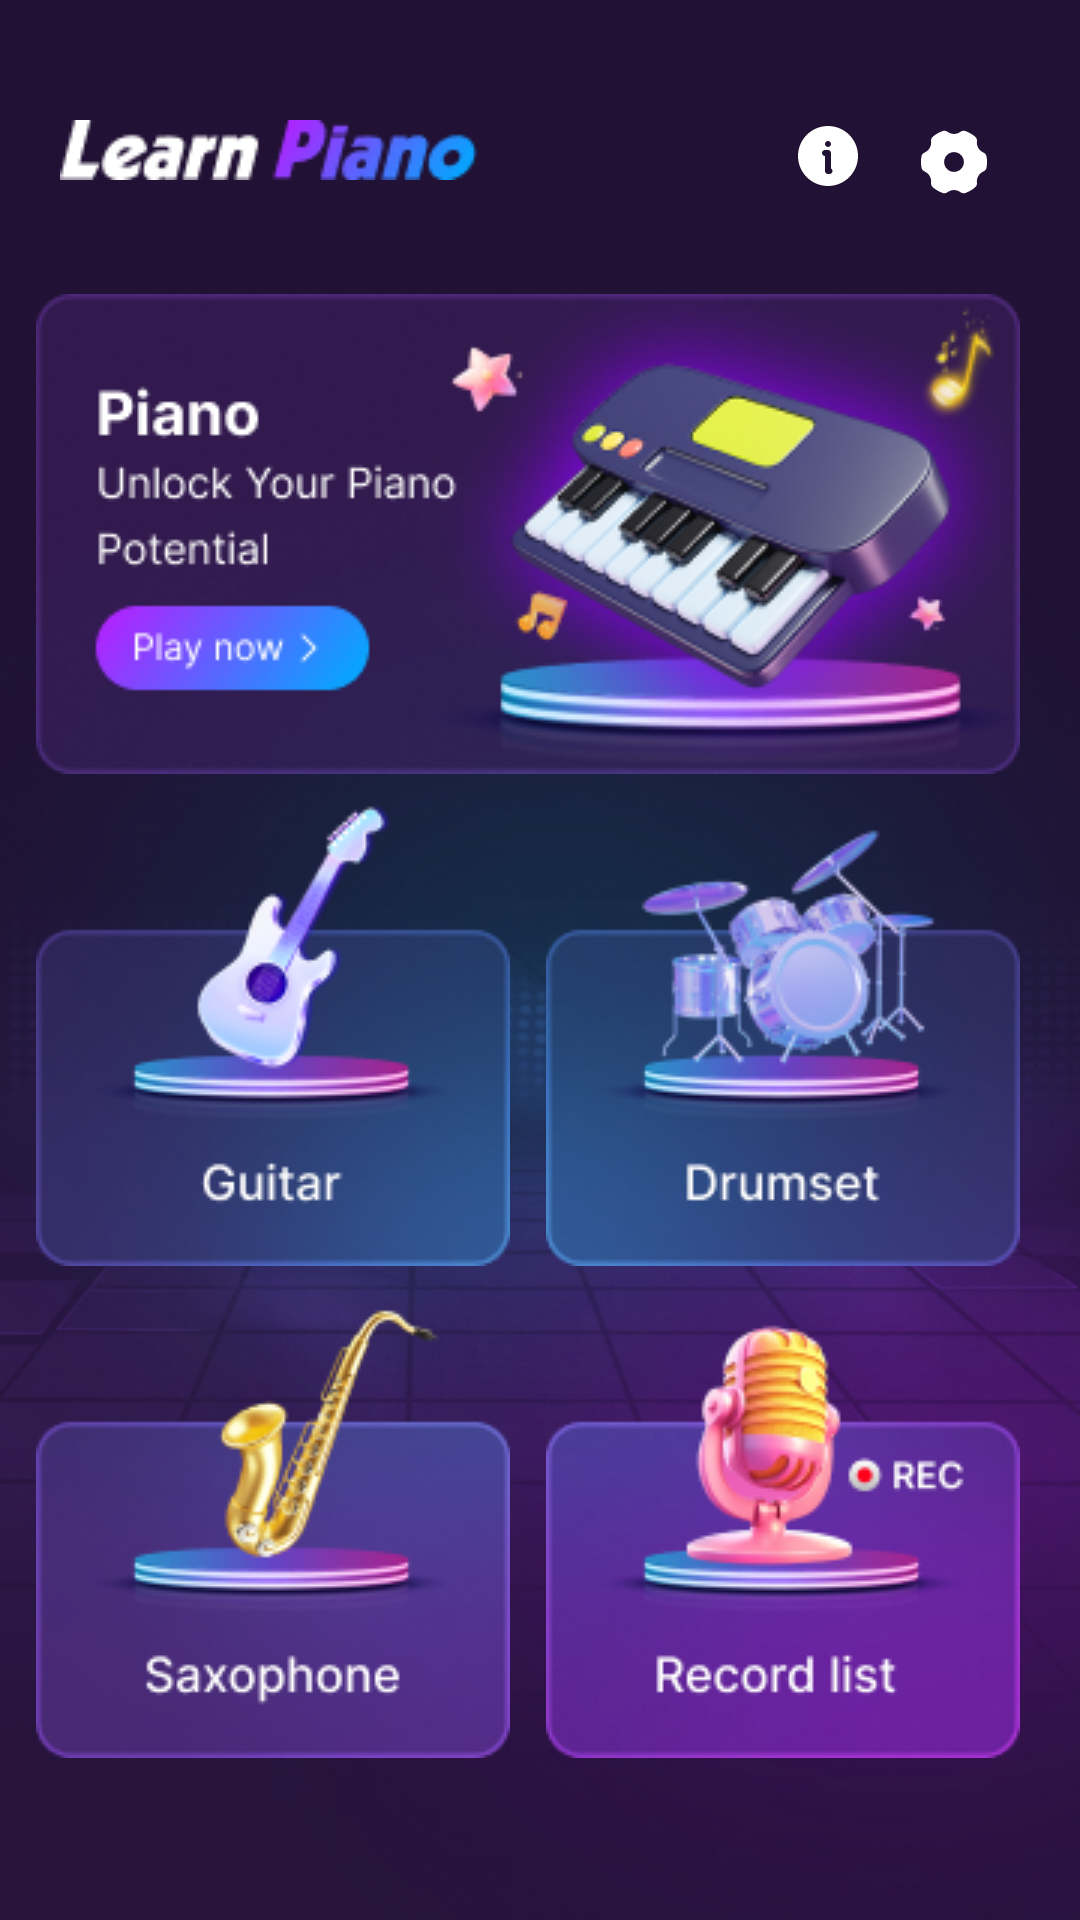

Icons on this 1080px x 1920px Android screen, each with its box as detection(x1, y1, x2, y2):
info: detection(798, 126, 858, 186)
setting: detection(921, 130, 987, 194)
